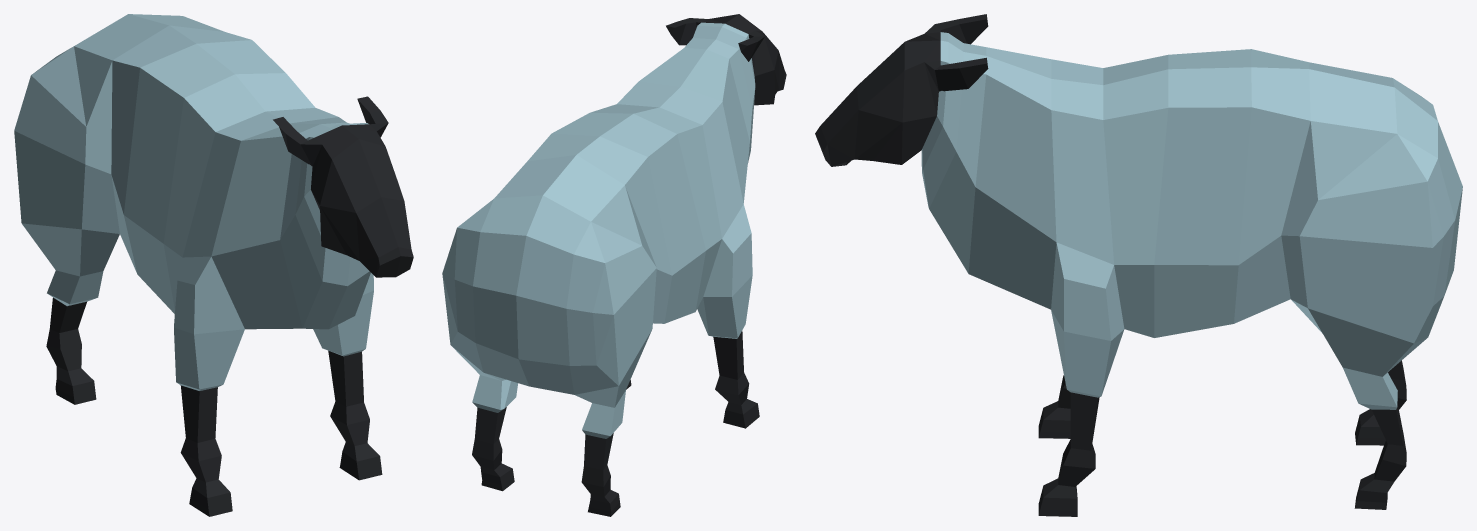
File: cc0-sheep-lod0.glb
The picture shows the model from 3 angles, left to right: view 1: azimuth 30°, elevation 25°; view 2: azimuth 150°, elevation 25°; view 3: azimuth 270°, elevation 25°; orthographic projection. The views are drawn at different scales.
Parts seen in each view (by area): view 1: part_0; view 2: part_0; view 3: part_0.
Boxes of the visible parts, x1,y1,x2,y2 form: part_0: [14, 14, 413, 516]; part_0: [442, 14, 786, 516]; part_0: [815, 14, 1462, 516].
Bounding box in the file's own units: 2.23 × 4.36 × 5.92.
